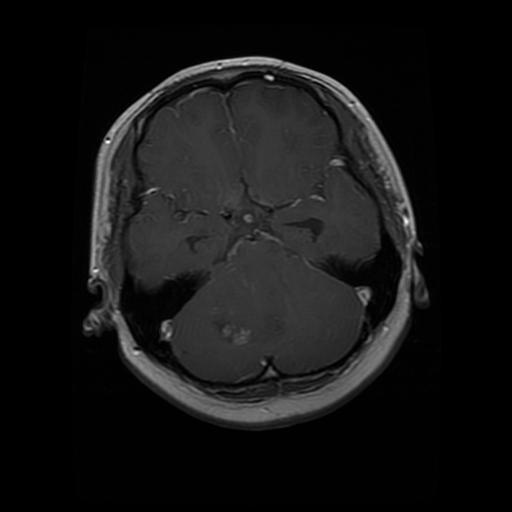Gliomia_tumour: (212, 244, 283, 336)
